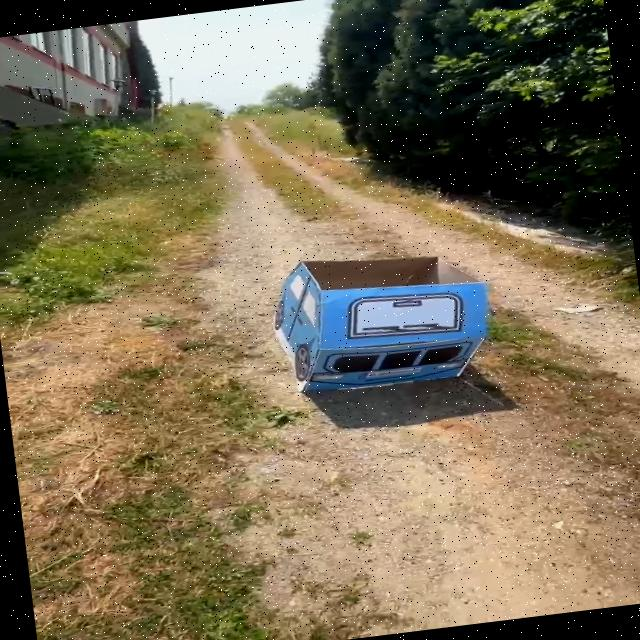blue_car: (240, 229, 525, 419)
